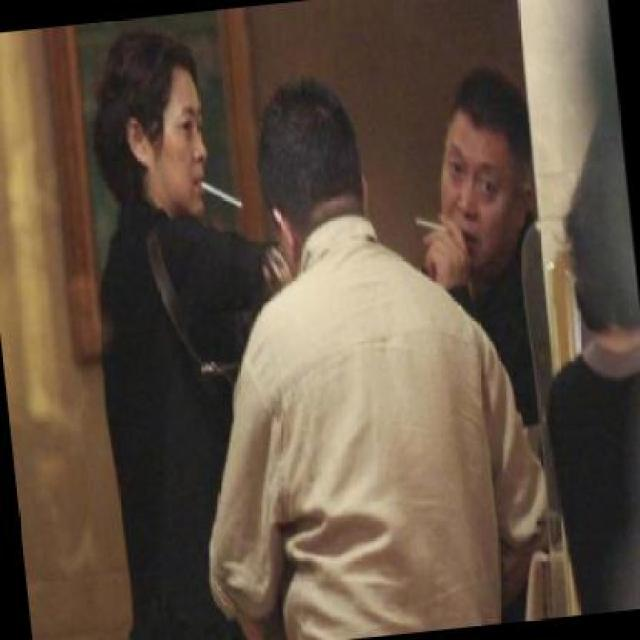cigarette: (193, 170, 244, 216), (409, 210, 449, 238)
